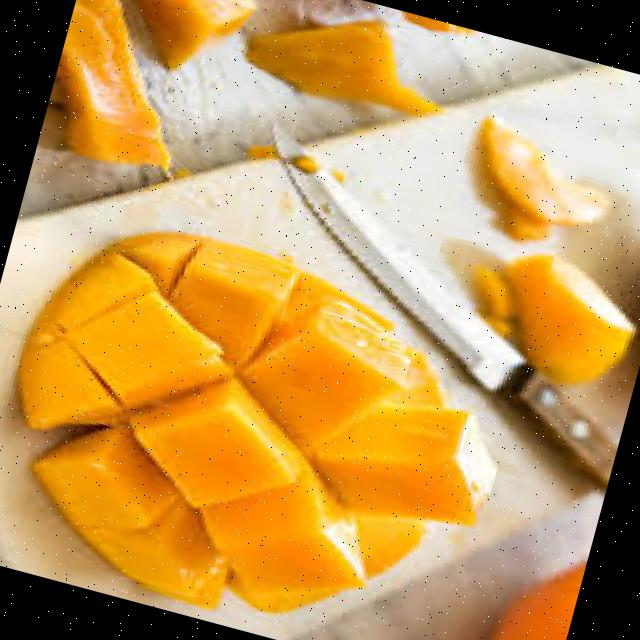mango: (14, 233, 474, 613)
